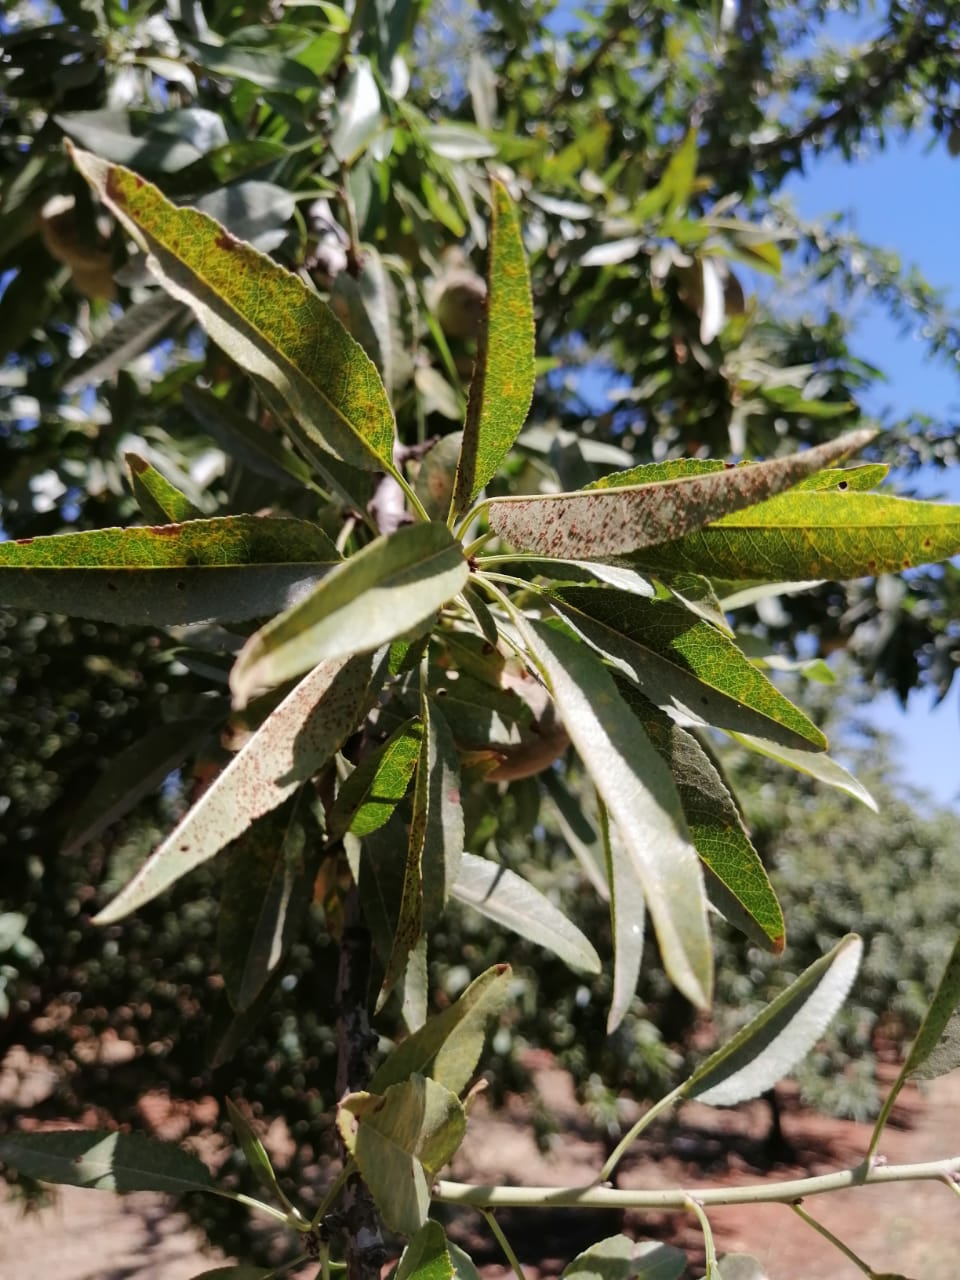rouille: (69, 144, 399, 481), (92, 650, 368, 931), (463, 427, 884, 557), (1, 510, 340, 623), (468, 172, 542, 499)
